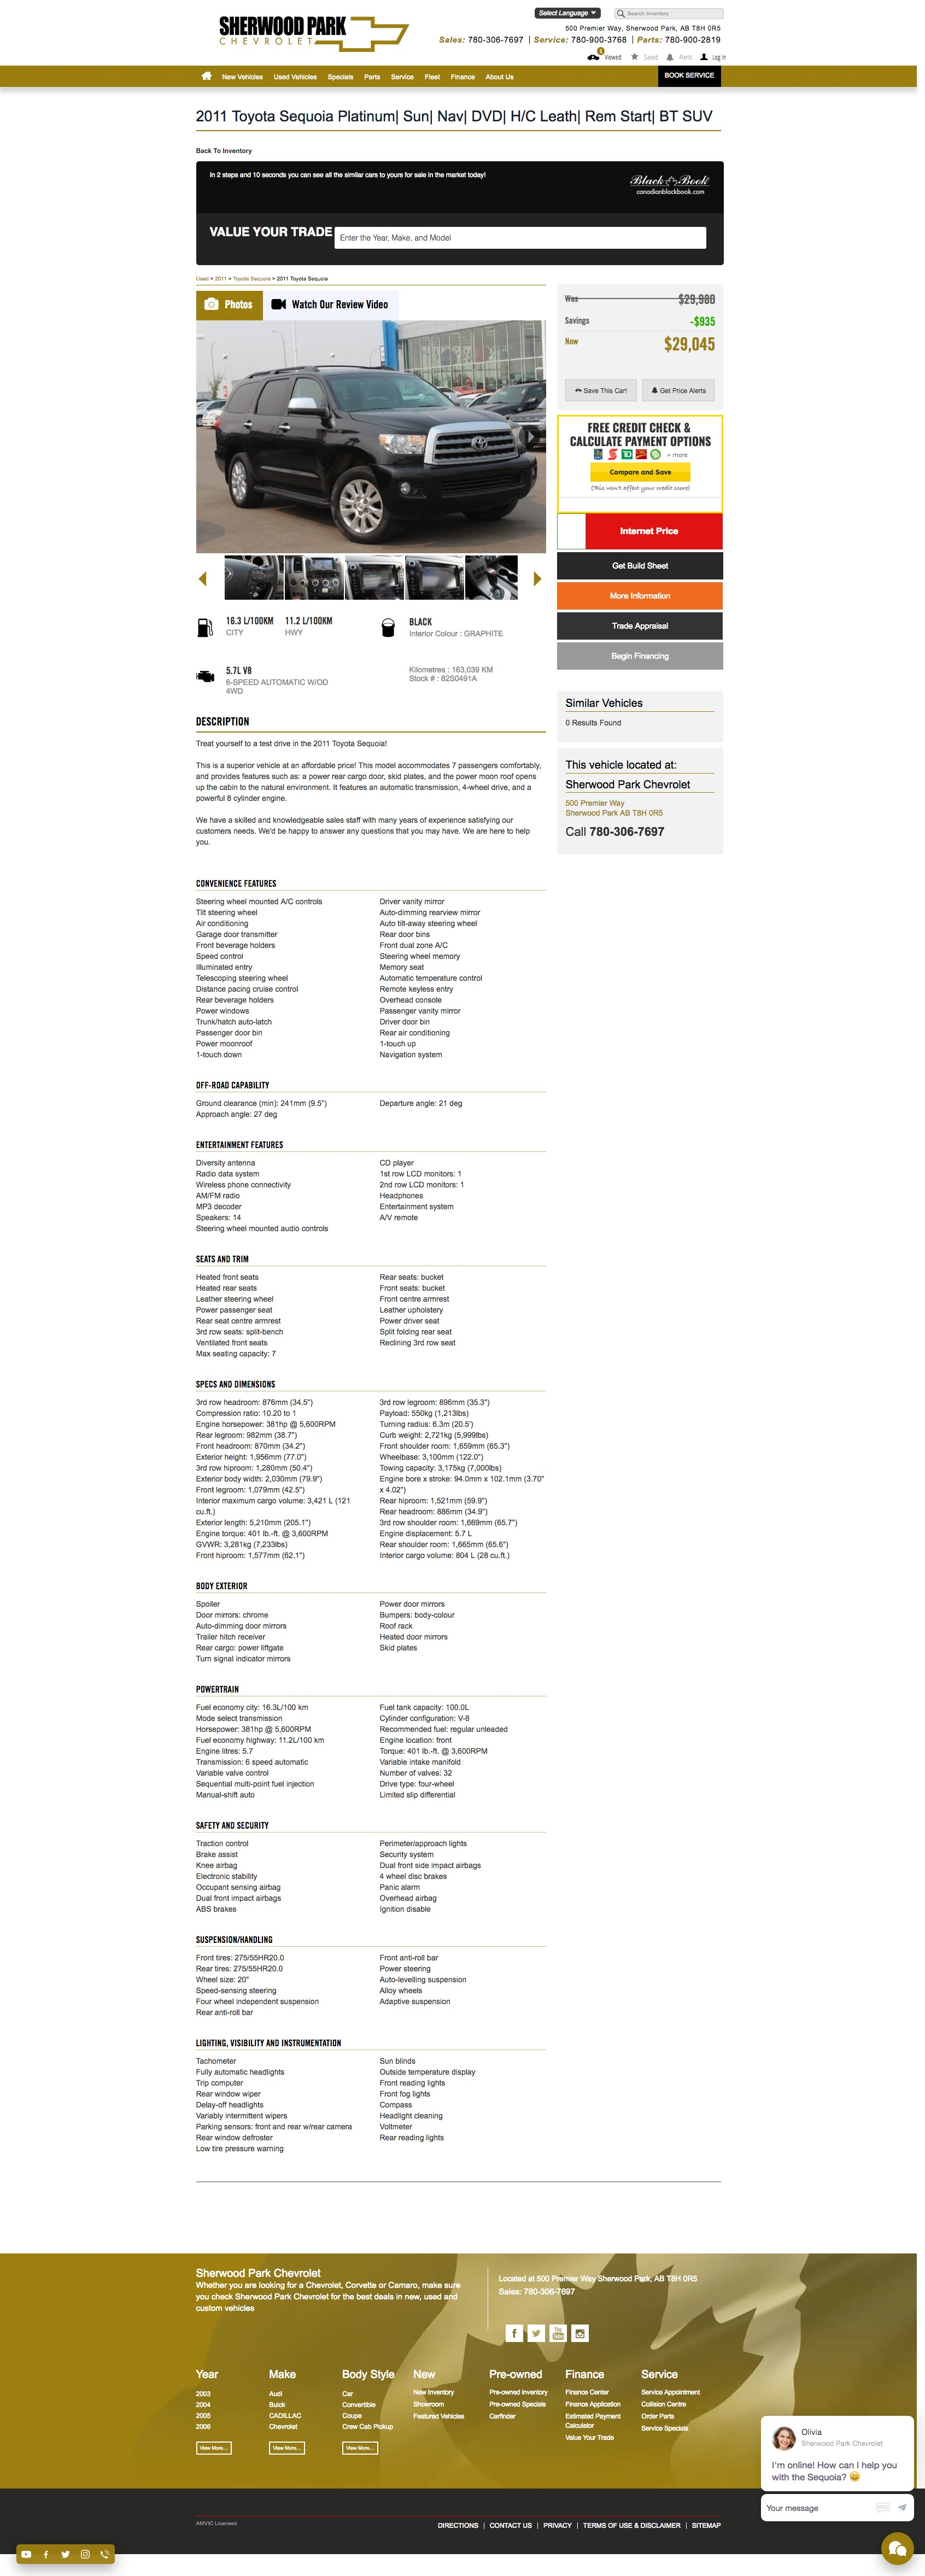car: (534, 572, 542, 587)
